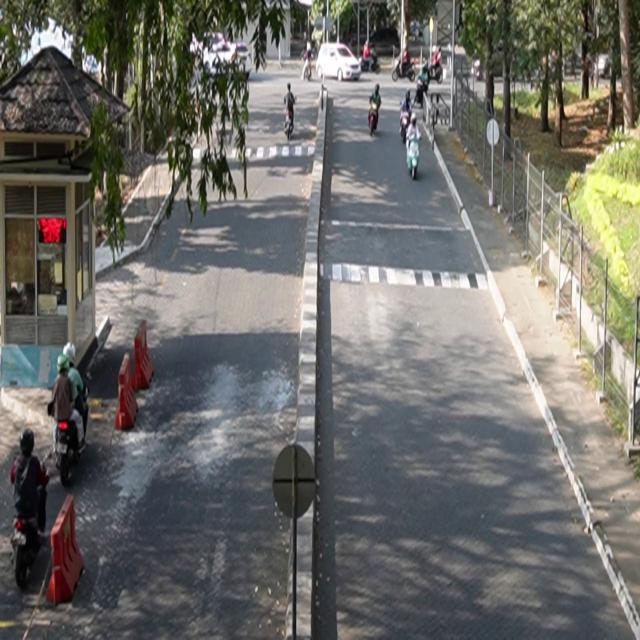car: (317, 43, 362, 82)
